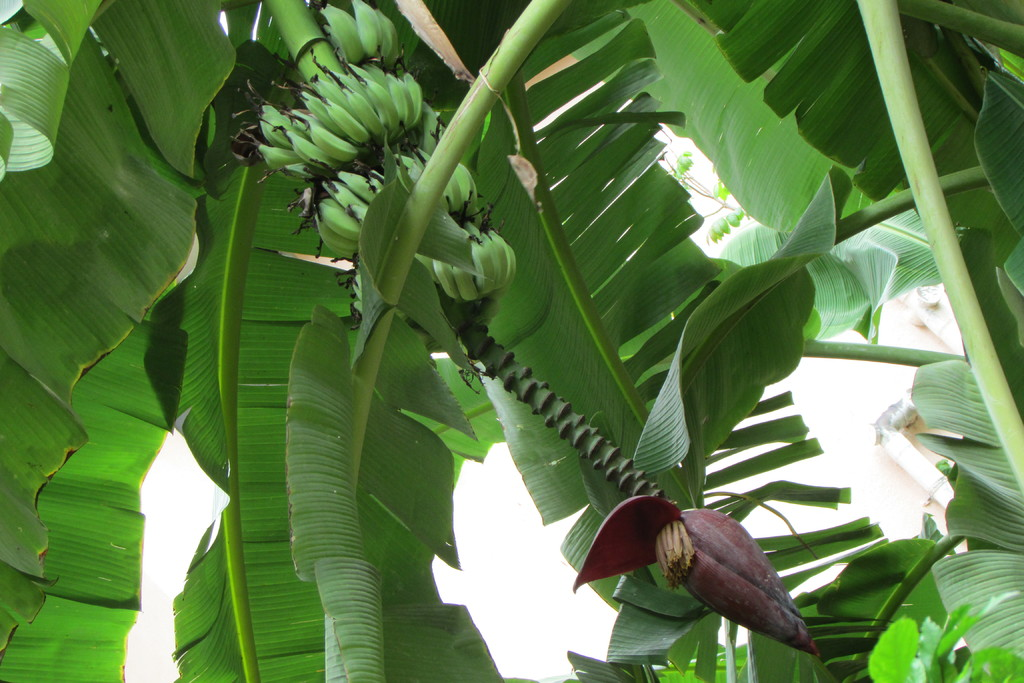Banana: (221, 0, 518, 320)
